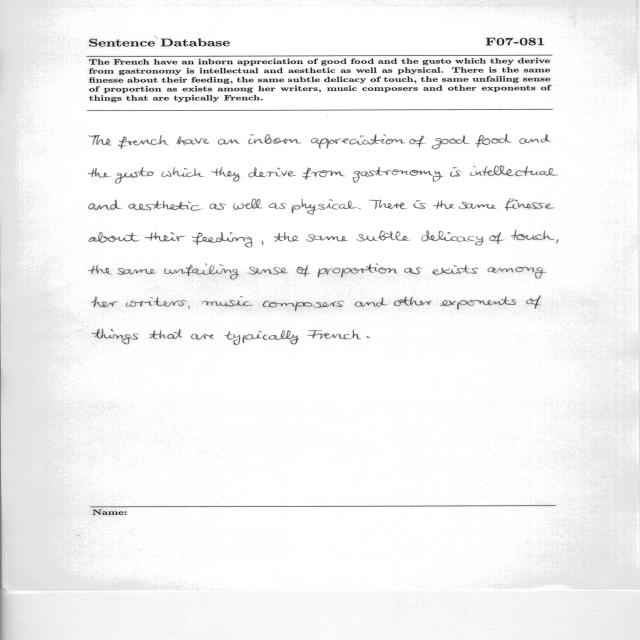word: (353, 167, 443, 183), (311, 134, 405, 149), (164, 263, 239, 280), (318, 264, 398, 278), (225, 330, 299, 345), (291, 199, 357, 215), (421, 230, 484, 246), (441, 297, 516, 310), (192, 232, 253, 247), (470, 166, 558, 176), (263, 301, 344, 311), (128, 200, 201, 211), (92, 329, 139, 345), (488, 267, 547, 279), (118, 135, 168, 149), (116, 167, 155, 184), (505, 198, 554, 211), (126, 297, 187, 307), (89, 232, 139, 243), (307, 330, 361, 340), (248, 134, 301, 144), (357, 231, 410, 241), (432, 135, 469, 149), (302, 168, 345, 180), (202, 296, 253, 306), (249, 168, 297, 178), (475, 134, 511, 147), (433, 265, 479, 275), (212, 167, 241, 182), (161, 167, 204, 177), (511, 231, 554, 241), (394, 296, 432, 306), (145, 232, 185, 241), (369, 200, 407, 209), (149, 329, 183, 339), (519, 134, 552, 144), (233, 199, 263, 210), (355, 297, 388, 307), (89, 200, 121, 210), (248, 267, 288, 275), (177, 136, 210, 145), (306, 235, 348, 242), (92, 297, 118, 308), (117, 268, 156, 275), (459, 202, 497, 209), (274, 232, 299, 242), (88, 265, 112, 275), (89, 135, 111, 145), (89, 168, 111, 177), (526, 296, 541, 309), (410, 136, 426, 148), (434, 200, 455, 209), (489, 232, 504, 244), (297, 265, 310, 277), (191, 334, 214, 340), (218, 139, 240, 145), (404, 268, 422, 275), (450, 167, 462, 177), (414, 200, 427, 209), (210, 203, 226, 210), (269, 203, 287, 209), (556, 239, 559, 244), (366, 336, 370, 338), (188, 306, 190, 309), (262, 241, 263, 245), (359, 208, 361, 209)
